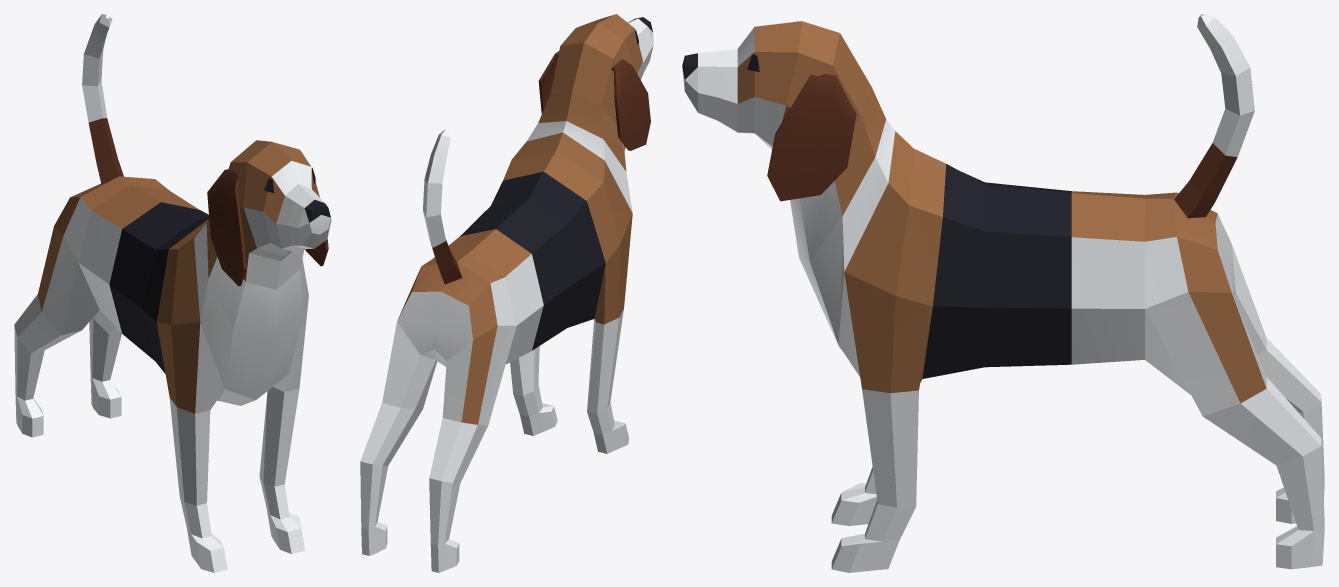
The model's file is perro_mediano.glb.
3 views of the same model, side by side, from view 1: azimuth 30°, elevation 25°; view 2: azimuth 150°, elevation 25°; view 3: azimuth 270°, elevation 25° (orthographic). The views are drawn at different scales.
Parts seen in each view (by area): view 1: Geo_Beagle; view 2: Geo_Beagle; view 3: Geo_Beagle.
Boxes of the visible parts, x1,y1,x2,y2 form: Geo_Beagle: (14,14,331,572); Geo_Beagle: (360,14,653,572); Geo_Beagle: (682,14,1324,572).
Bounding box in the file's own units: 0.1495 × 0.5 × 0.551.
Materials: 1 (1 with a texture image).
